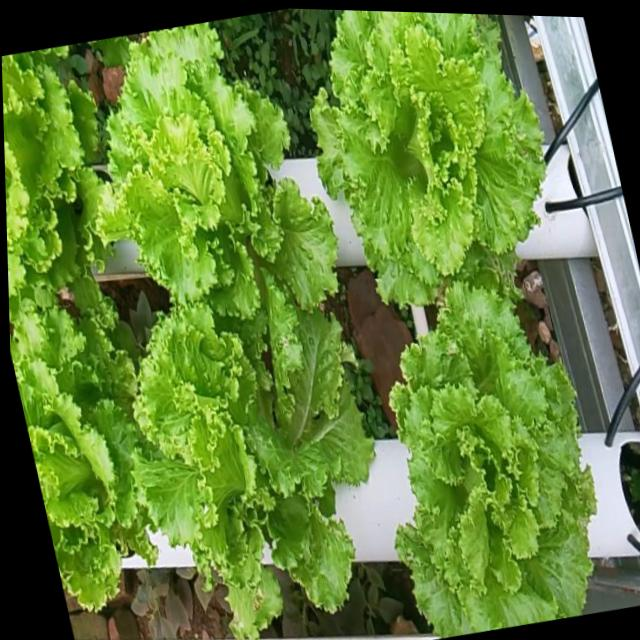Mature: (152, 302, 384, 630), (122, 32, 353, 358), (327, 11, 556, 315), (401, 293, 602, 637), (12, 304, 171, 593), (2, 51, 119, 314)
